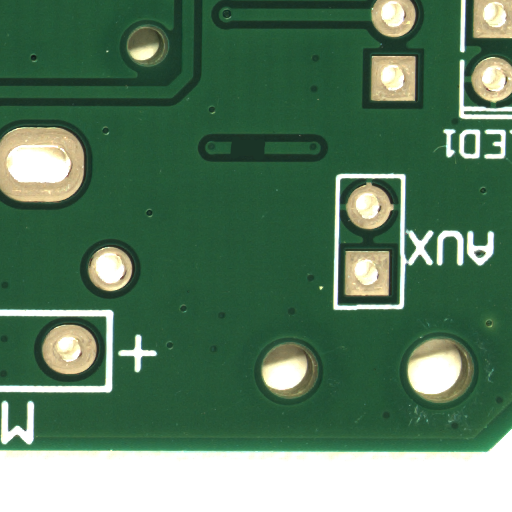Open_circuit: (247, 147, 283, 162)
